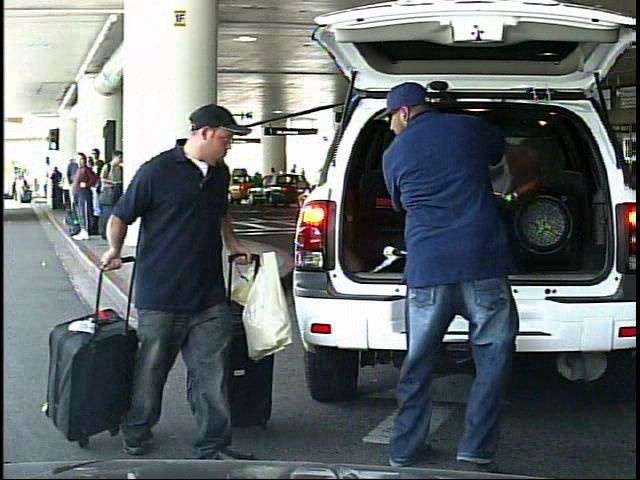person: (365, 75, 551, 477), (113, 108, 263, 457), (285, 162, 298, 193), (15, 172, 26, 203)
